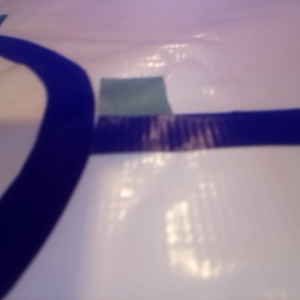top_right: (48, 78, 172, 152)
